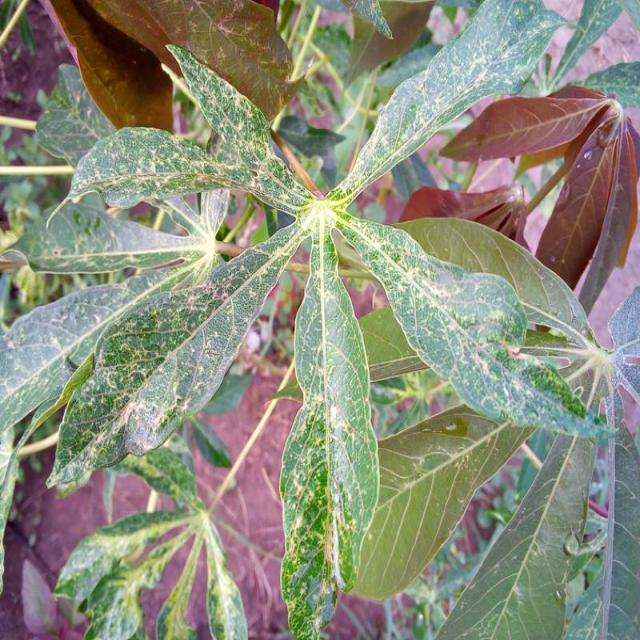cassava leaf: (2, 1, 635, 637), (44, 215, 301, 492), (334, 214, 617, 441), (278, 224, 380, 638)
